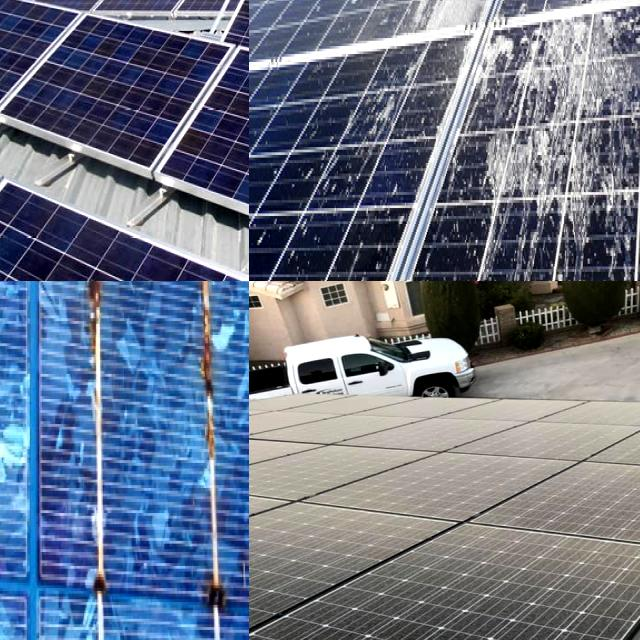bird: (490, 137, 592, 239), (522, 24, 609, 115), (396, 0, 480, 49), (346, 66, 404, 132), (323, 0, 380, 37), (478, 46, 520, 92), (571, 0, 632, 31)
crack: (0, 0, 240, 205), (0, 137, 249, 281), (133, 19, 249, 281)
shadow: (193, 281, 249, 494), (82, 464, 128, 630), (50, 281, 127, 377), (193, 530, 249, 640)
